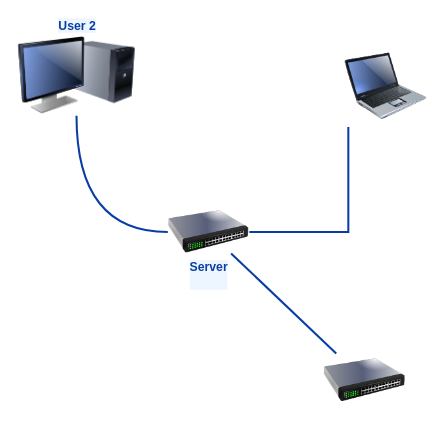
The diagram is 444 pixels wide and 446 high, and some of its shapes have lost their labels. Here are the shapes that lost their labels. From the top down, the centre of each, then its label:
At (x=385, y=85): "User 1".
At (x=364, y=380): "Mongo Database".
